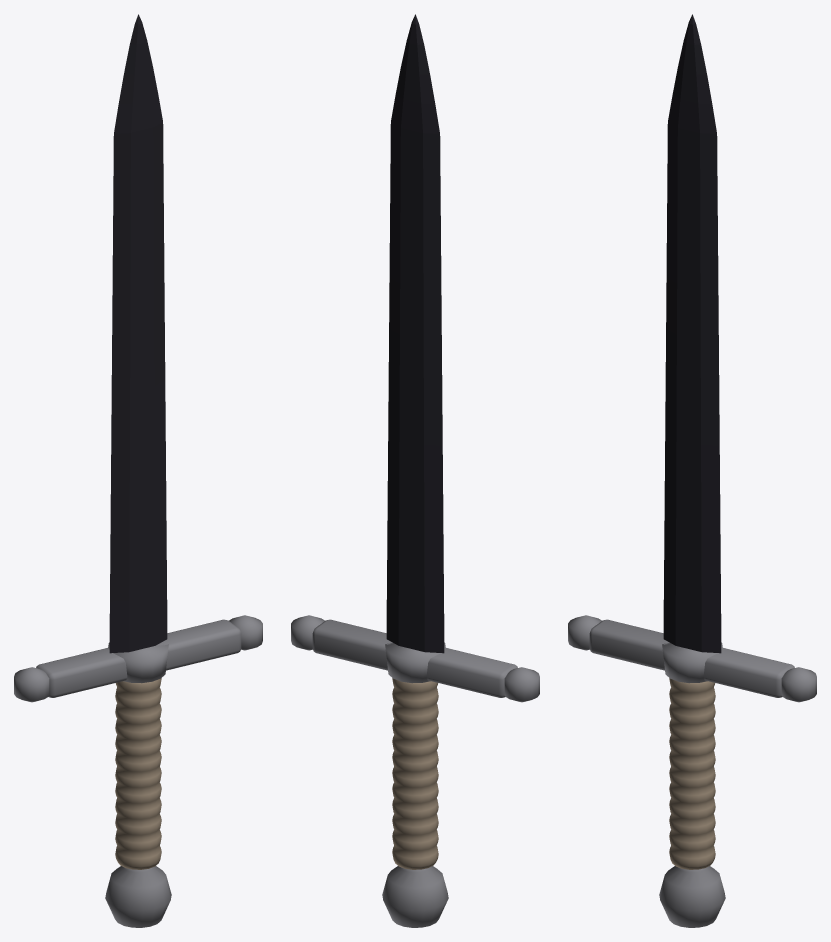
Rendered from sword_obsidian.glb.
The picture shows the model from 3 angles, left to right: view 1: azimuth 30°, elevation 25°; view 2: azimuth 150°, elevation 25°; view 3: azimuth 330°, elevation 25°; orthographic projection.
Parts seen in each view (by area): view 1: sword_obsidian_blade, sword_obsidian_grip, sword_obsidian_guard, sword_obsidian_pommel, sword_obsidian_ricasso, sword_obsidian_quillon-1, sword_obsidian_quillon1; view 2: sword_obsidian_blade, sword_obsidian_grip, sword_obsidian_guard, sword_obsidian_pommel, sword_obsidian_ricasso, sword_obsidian_quillon-1, sword_obsidian_quillon1; view 3: sword_obsidian_blade, sword_obsidian_grip, sword_obsidian_guard, sword_obsidian_pommel, sword_obsidian_ricasso, sword_obsidian_quillon1, sword_obsidian_quillon-1.
Boxes of the visible parts, bbox=[...] form: sword_obsidian_blade: bbox=[109, 14, 167, 653]; sword_obsidian_grip: bbox=[115, 678, 161, 869]; sword_obsidian_guard: bbox=[36, 619, 241, 697]; sword_obsidian_pommel: bbox=[105, 866, 171, 927]; sword_obsidian_ricasso: bbox=[108, 642, 168, 683]; sword_obsidian_quillon-1: bbox=[14, 667, 49, 702]; sword_obsidian_quillon1: bbox=[229, 615, 262, 650]; sword_obsidian_blade: bbox=[386, 14, 444, 653]; sword_obsidian_grip: bbox=[392, 678, 438, 869]; sword_obsidian_guard: bbox=[312, 619, 517, 697]; sword_obsidian_pommel: bbox=[382, 866, 448, 927]; sword_obsidian_ricasso: bbox=[385, 642, 445, 683]; sword_obsidian_quillon-1: bbox=[504, 667, 539, 702]; sword_obsidian_quillon1: bbox=[291, 615, 324, 650]; sword_obsidian_blade: bbox=[663, 14, 721, 653]; sword_obsidian_grip: bbox=[669, 678, 715, 869]; sword_obsidian_guard: bbox=[589, 619, 794, 697]; sword_obsidian_pommel: bbox=[659, 866, 725, 927]; sword_obsidian_ricasso: bbox=[662, 642, 722, 683]; sword_obsidian_quillon1: bbox=[781, 667, 816, 702]; sword_obsidian_quillon-1: bbox=[568, 615, 601, 650].
Bounding box in the file's own units: 0.202 × 0.72 × 0.048.
